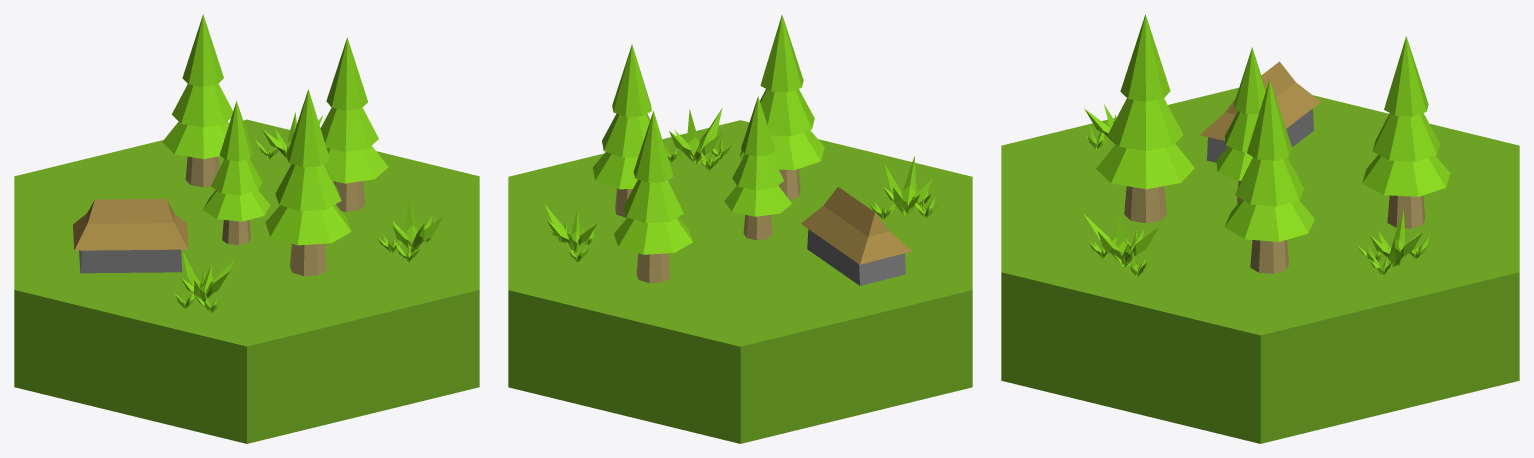
The model's file is Casas_Pinos_Bajos_1.fbx.
3 views of the same model, side by side, from view 1: azimuth 30°, elevation 25°; view 2: azimuth 150°, elevation 25°; view 3: azimuth 270°, elevation 25° (orthographic). The views are drawn at different scales.
Visible parts, largest first — view 1: Casas_Pinos_Bajos_1; view 2: Casas_Pinos_Bajos_1; view 3: Casas_Pinos_Bajos_1.
Part boxes in pixels (x1=…): Casas_Pinos_Bajos_1: x1=14, y1=14, x2=479, y2=443; Casas_Pinos_Bajos_1: x1=508, y1=14, x2=972, y2=443; Casas_Pinos_Bajos_1: x1=1001, y1=14, x2=1519, y2=443.
Size of the model in its own units: 200 by 114 by 173.
